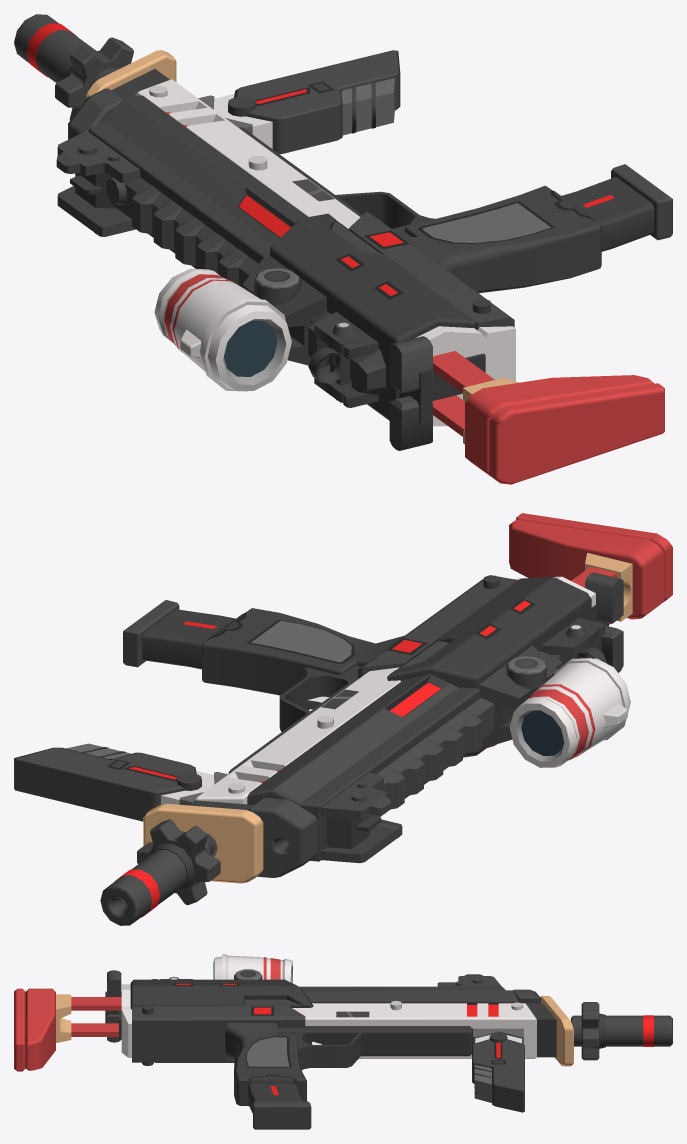
Rendered from fuuka.glb.
The picture shows the model from 3 angles, top to bottom: view 1: azimuth 30°, elevation 25°; view 2: azimuth 150°, elevation 25°; view 3: azimuth 270°, elevation 25°; orthographic projection. The views are drawn at different scales.
Parts seen in each view (by area): view 1: Fuuka_Original_Weapon; view 2: Fuuka_Original_Weapon; view 3: Fuuka_Original_Weapon.
Boxes of the visible parts, x1,y1,x2,y2 form: Fuuka_Original_Weapon: [14, 14, 672, 484]; Fuuka_Original_Weapon: [14, 513, 672, 925]; Fuuka_Original_Weapon: [14, 954, 672, 1129].
Size of the model in its own units: 0.2894 by 0.06 by 0.5425.
Materials: 1 (1 with a texture image).
